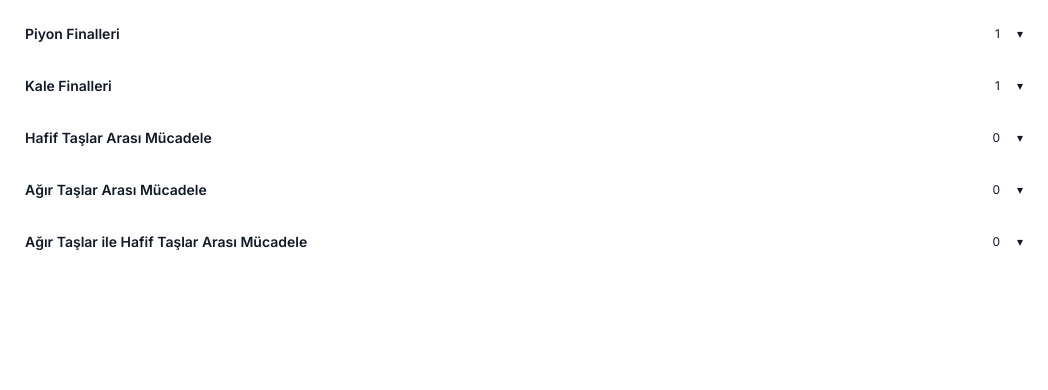
Test: CategorizedPositionPool › açık kategoride sadece o kategorinin konumları listelenir
Click the text "Kale Finalleri" at (68, 86), box [25,77,112,94]
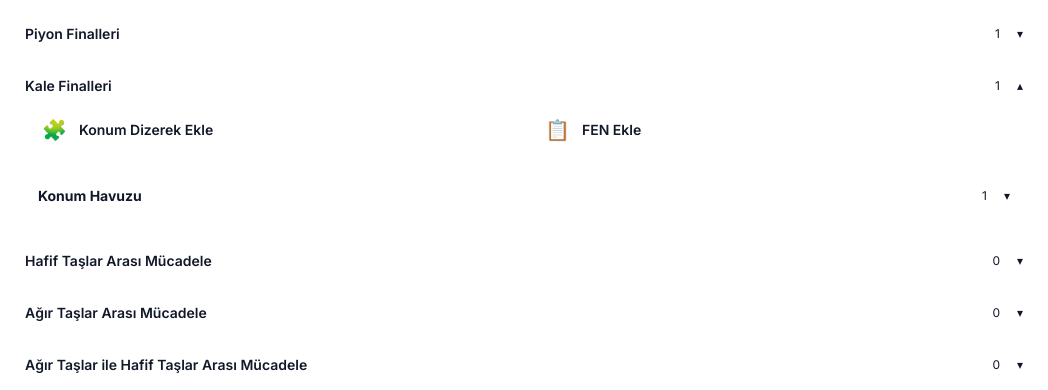
Check: the button "Konum Havuzu 1 ▾" is shown, box [25,174,1023,218]
